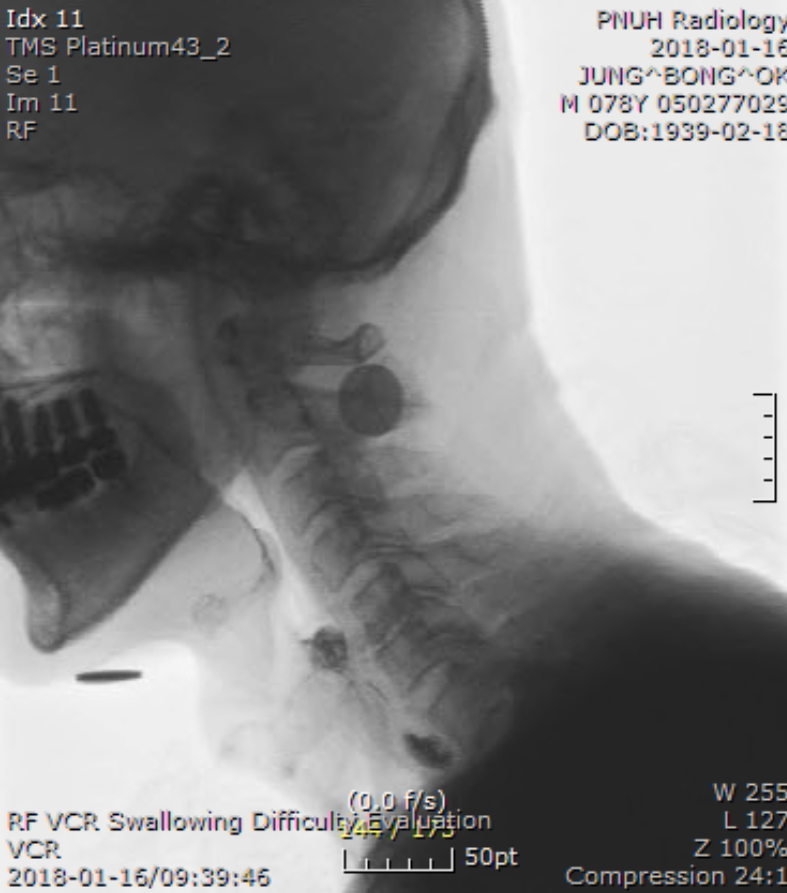dros: (294, 582, 337, 635)
food: (290, 609, 349, 678)
uros: (230, 521, 282, 585)
